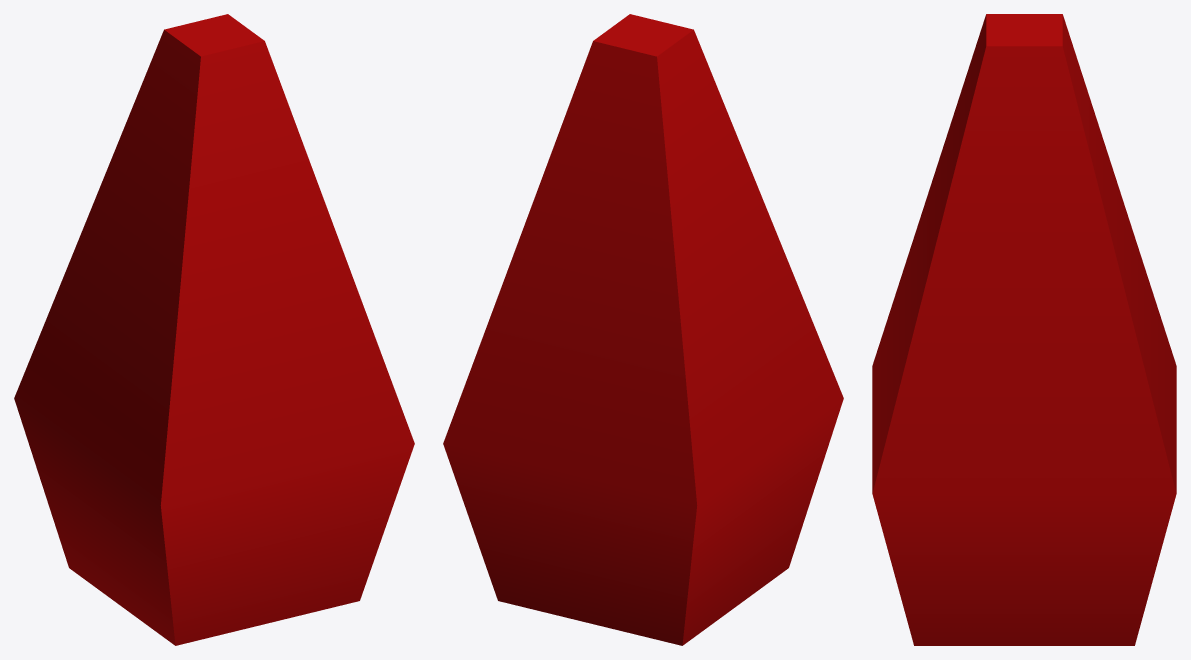
File: SM_Env_Bush_Palm_01_Collision.gltf
3 renders of one model, left to right at view 1: azimuth 30°, elevation 25°; view 2: azimuth 150°, elevation 25°; view 3: azimuth 270°, elevation 25°, orthographic. The views are drawn at different scales.
Visible parts, largest first — view 1: SM_Env_Bush_Palm_01_Collision; view 2: SM_Env_Bush_Palm_01_Collision; view 3: SM_Env_Bush_Palm_01_Collision.
Part boxes in pixels (box(x1,y1,x2,y2)): SM_Env_Bush_Palm_01_Collision: box(14, 14, 414, 645); SM_Env_Bush_Palm_01_Collision: box(443, 14, 843, 645); SM_Env_Bush_Palm_01_Collision: box(872, 14, 1176, 645).
Bounding box in the file's own units: 0.5811 × 1.2 × 0.5811.
